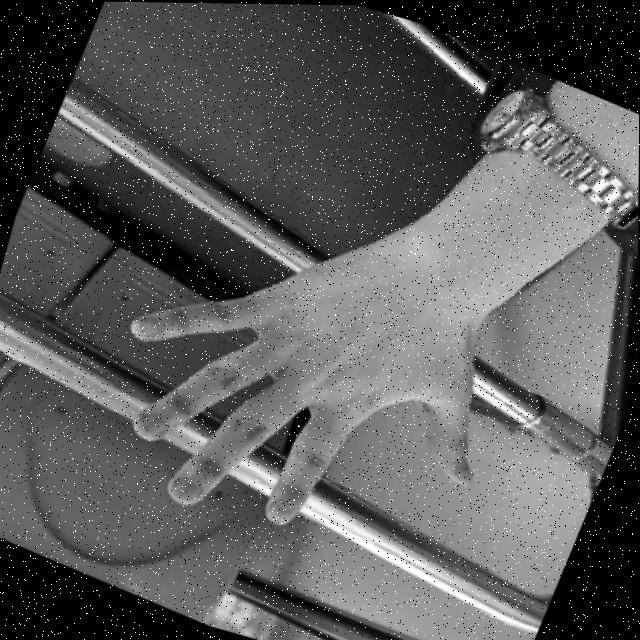hand: (85, 138, 549, 584)
